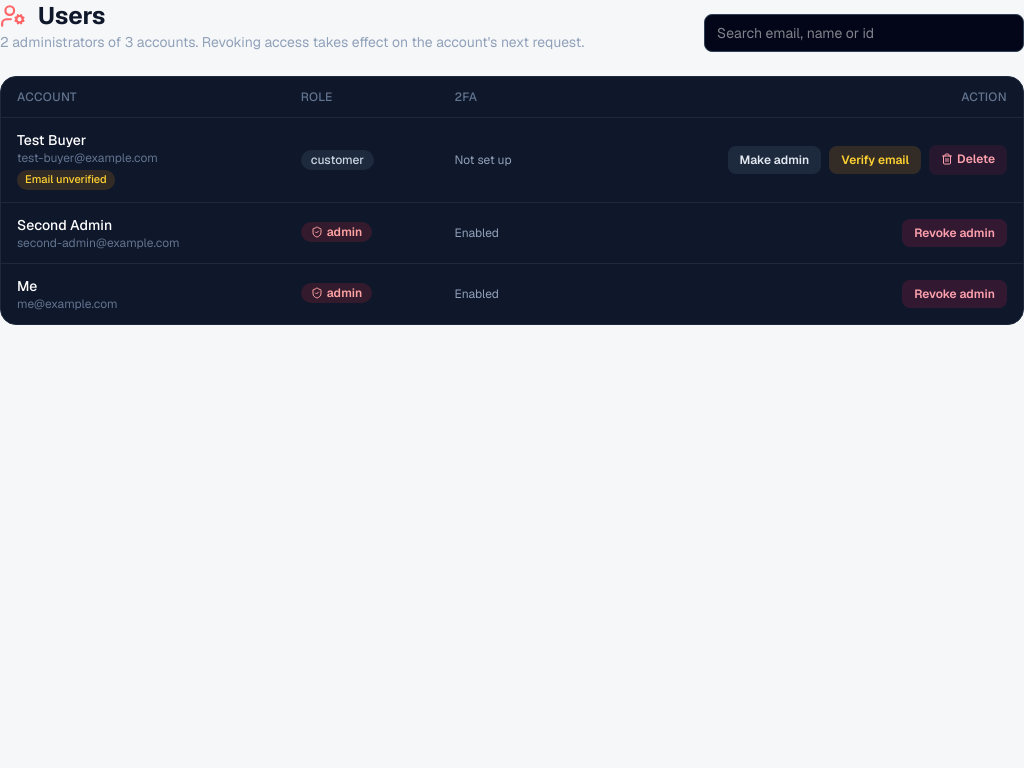
Scenario: AdminUsersPage: delete account › sends the reason and the address, then drops the row
Click the button "Delete" at (968, 160), box x1=929 y1=145 x2=1007 y2=175
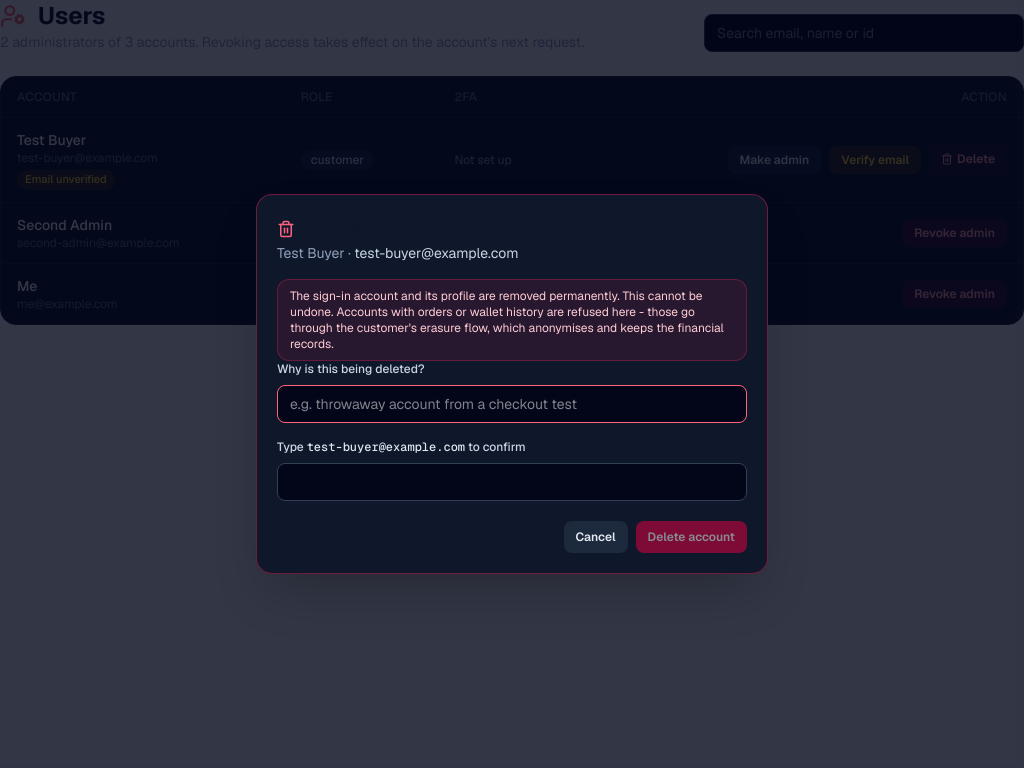
Type "throwaway checkout test" into the field labelled "Why is this being deleted?" at (512, 404), box x1=277 y1=385 x2=747 y2=423
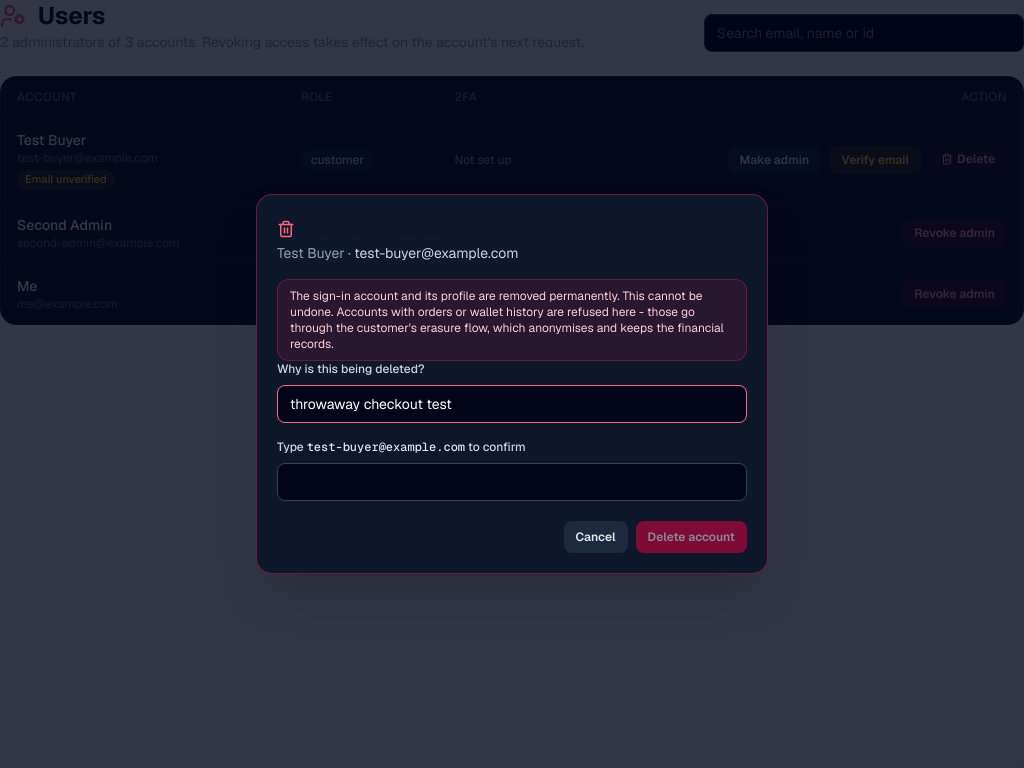
Type "test-buyer@example.com" into the field labelled "Type test-buyer@example.com to confirm" at (512, 482), box x1=277 y1=463 x2=747 y2=501
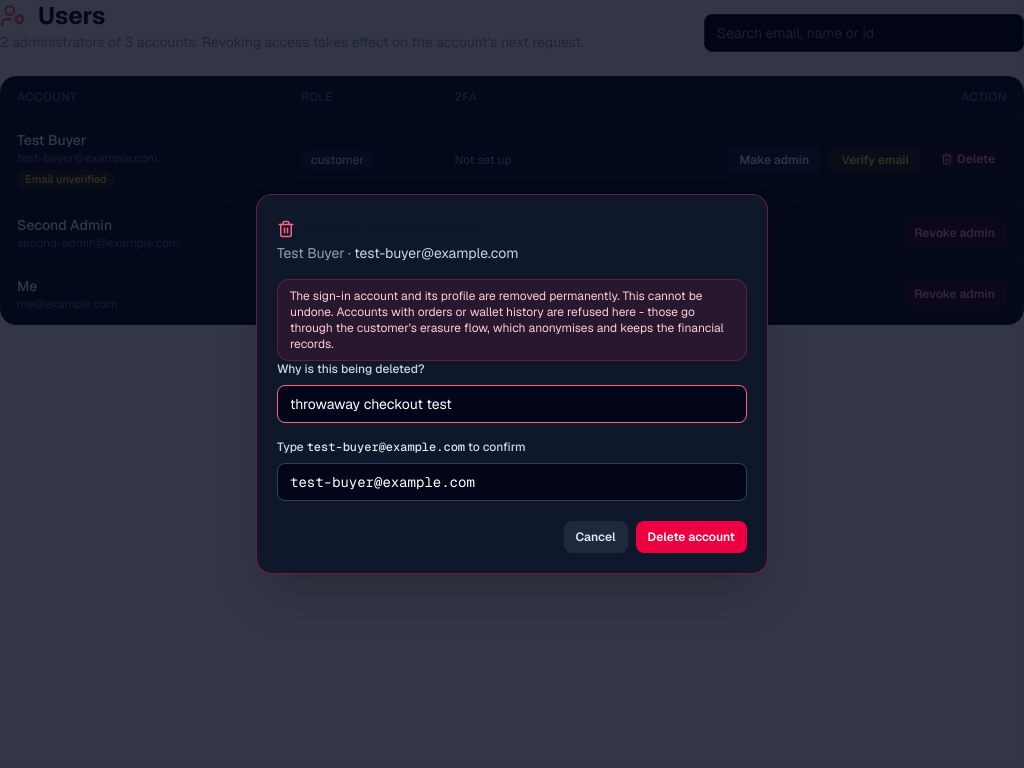
Click the button "Delete account" at (691, 537), box x1=636 y1=521 x2=747 y2=553
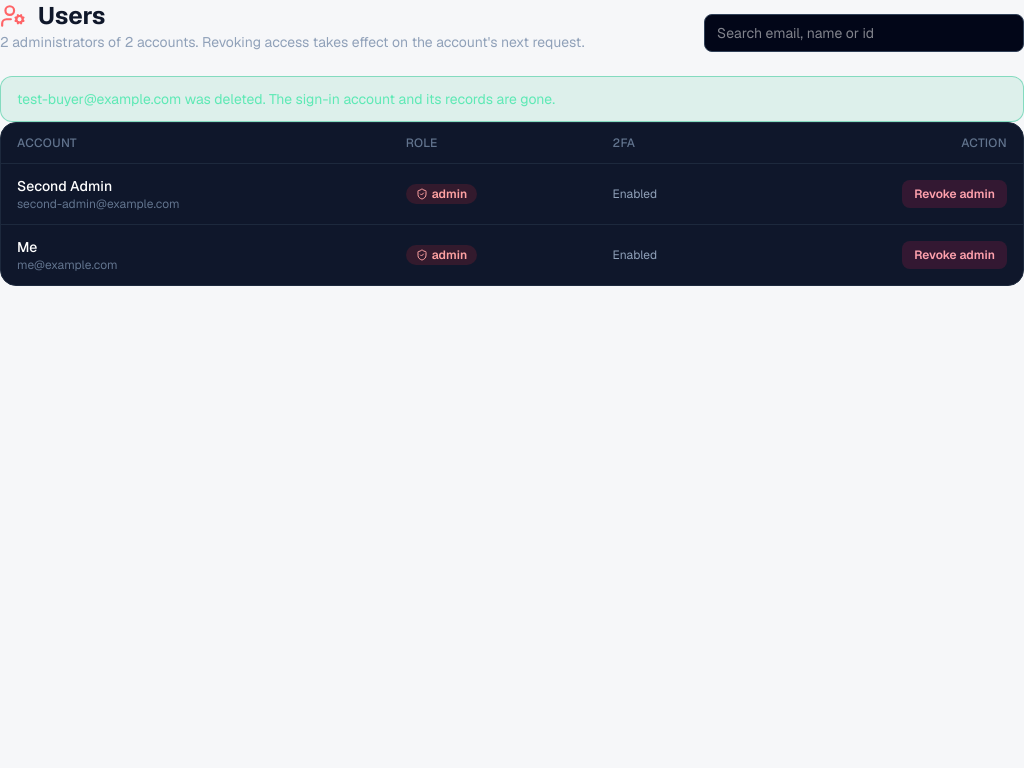
Expected: the dialog is gone
Expected: the text "was deleted" is shown, x1=17 y1=90 x2=555 y2=108
